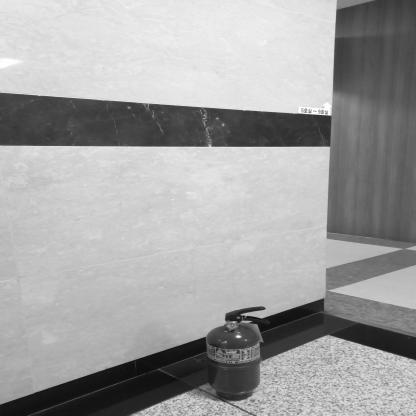FE: (207, 307, 265, 400)
